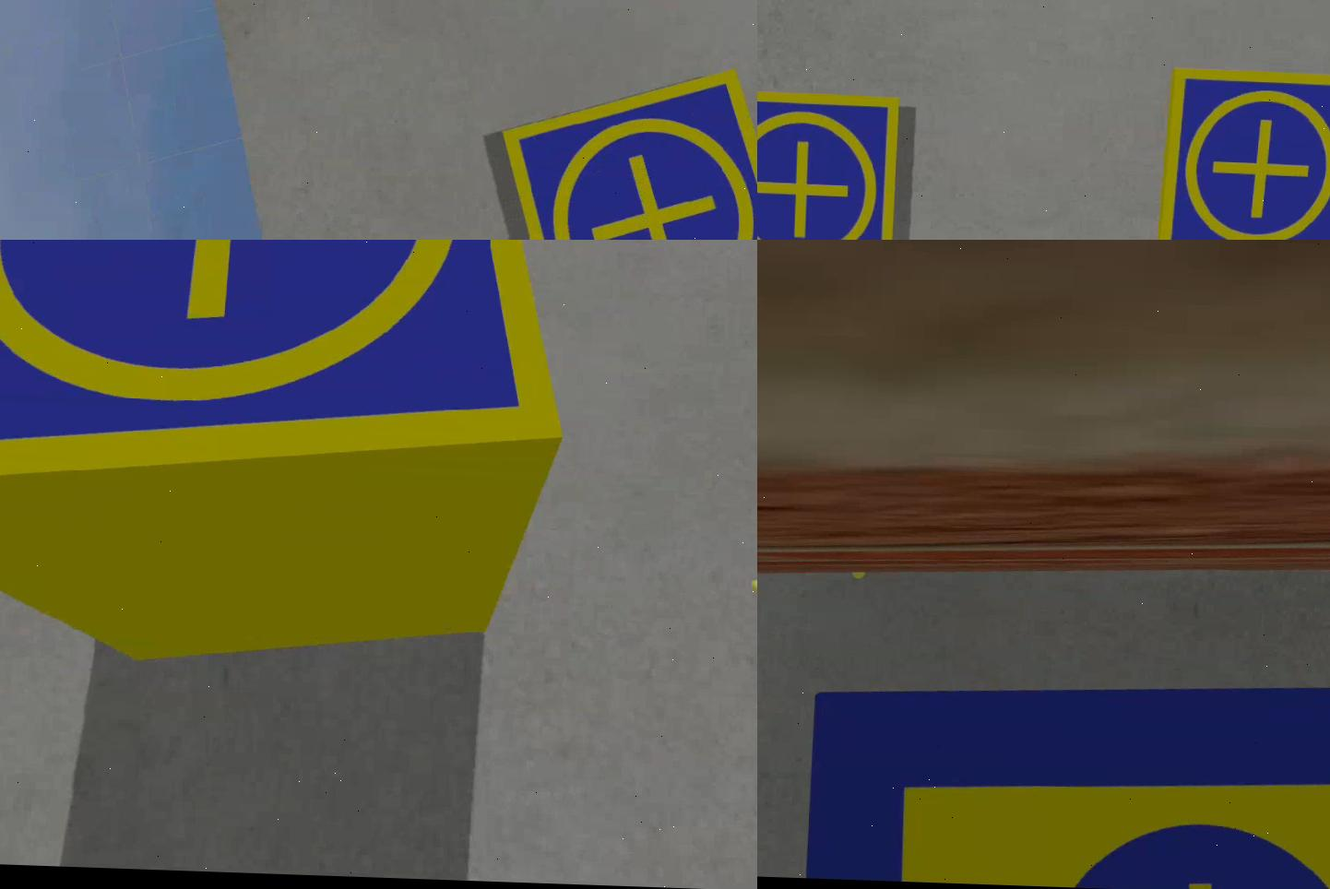large_base: (805, 664, 1330, 889)
small_base: (1, 241, 582, 535), (492, 63, 758, 241), (1151, 64, 1330, 241), (758, 86, 908, 241)
